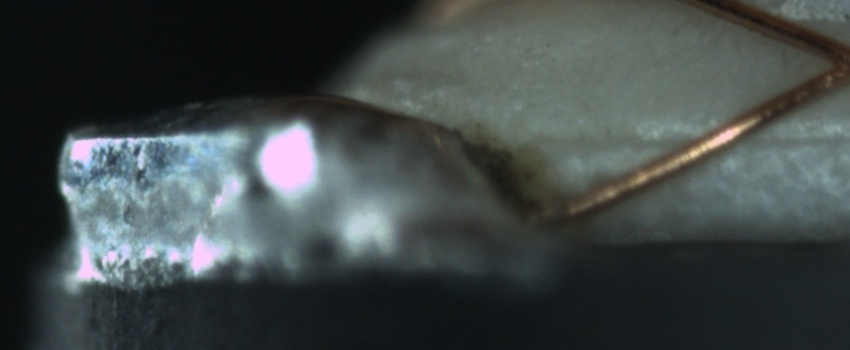CL: (803, 25, 849, 96)
DL: (553, 109, 850, 171)
